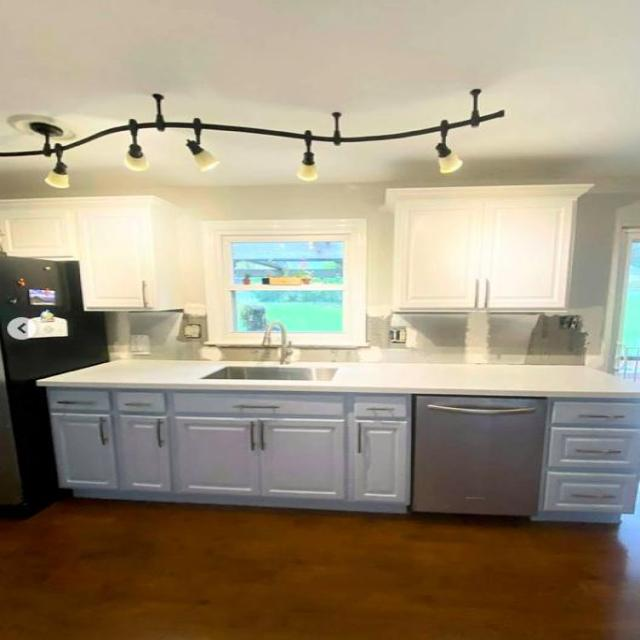dishwasher: (412, 392, 547, 517)
